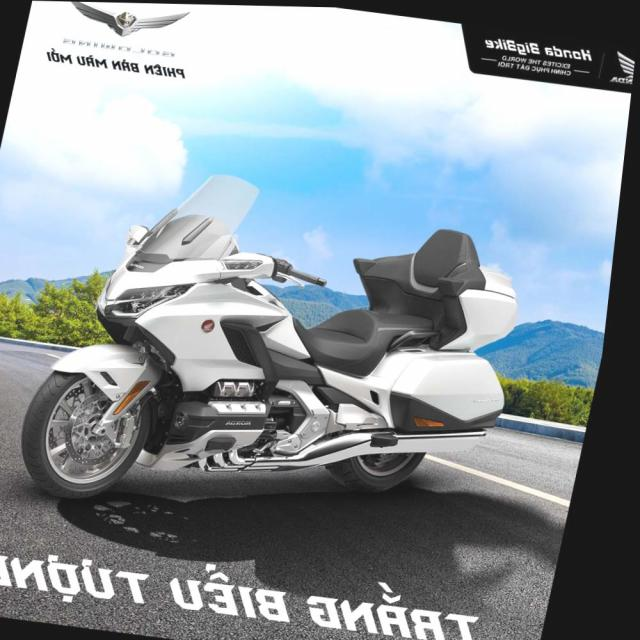Gold Wing: (10, 147, 559, 551)
